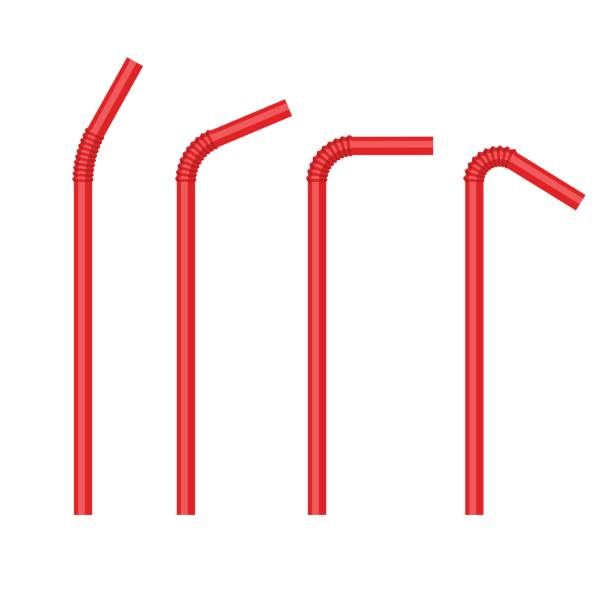Drinking Straw: (304, 133, 438, 519), (173, 95, 294, 520), (462, 142, 589, 521), (68, 54, 144, 518)
